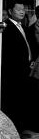boots: (33, 119, 39, 126), (36, 111, 39, 118)
hard-hat: (27, 28, 39, 45)
ppe-suit: (0, 18, 39, 138)
